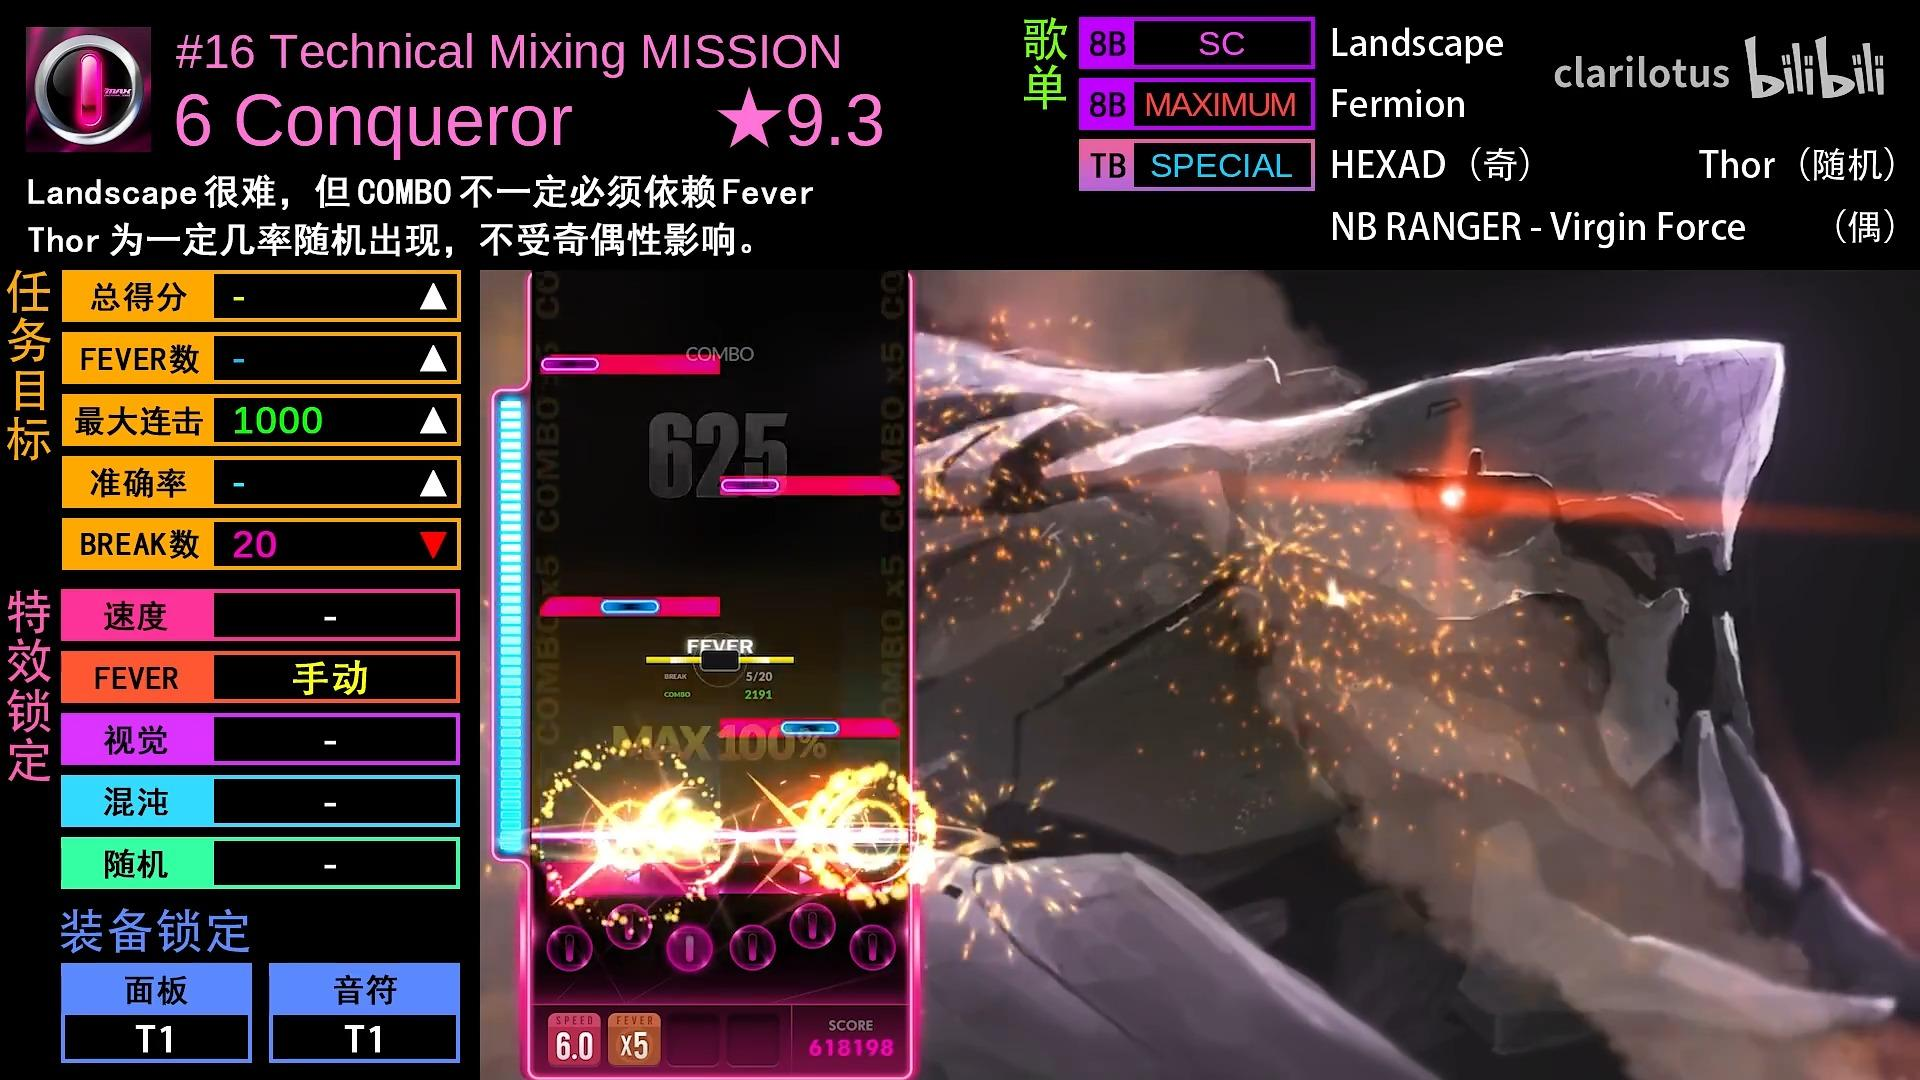note: (779, 717, 843, 737), (719, 476, 781, 495), (597, 597, 661, 615), (541, 355, 600, 371)
xnote: (541, 355, 720, 376), (719, 717, 899, 737), (720, 476, 899, 496), (539, 597, 719, 616)
